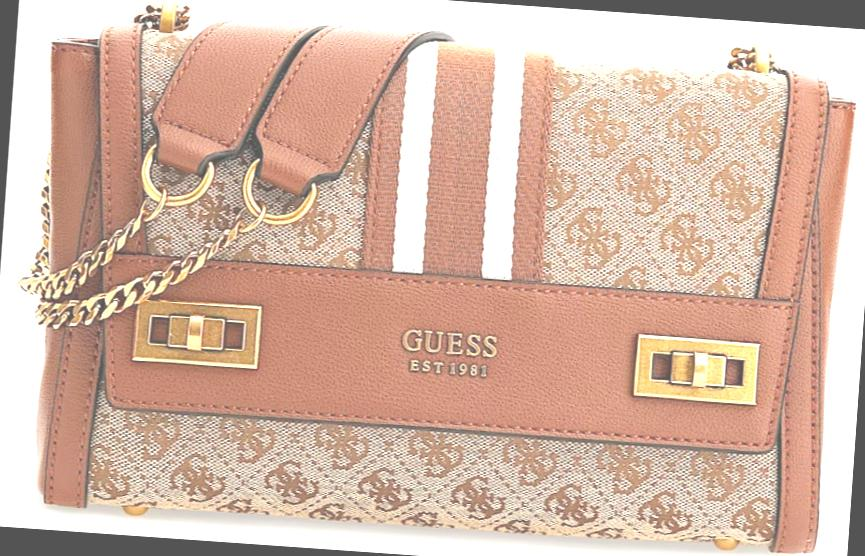GUESS: (399, 327, 497, 358)
